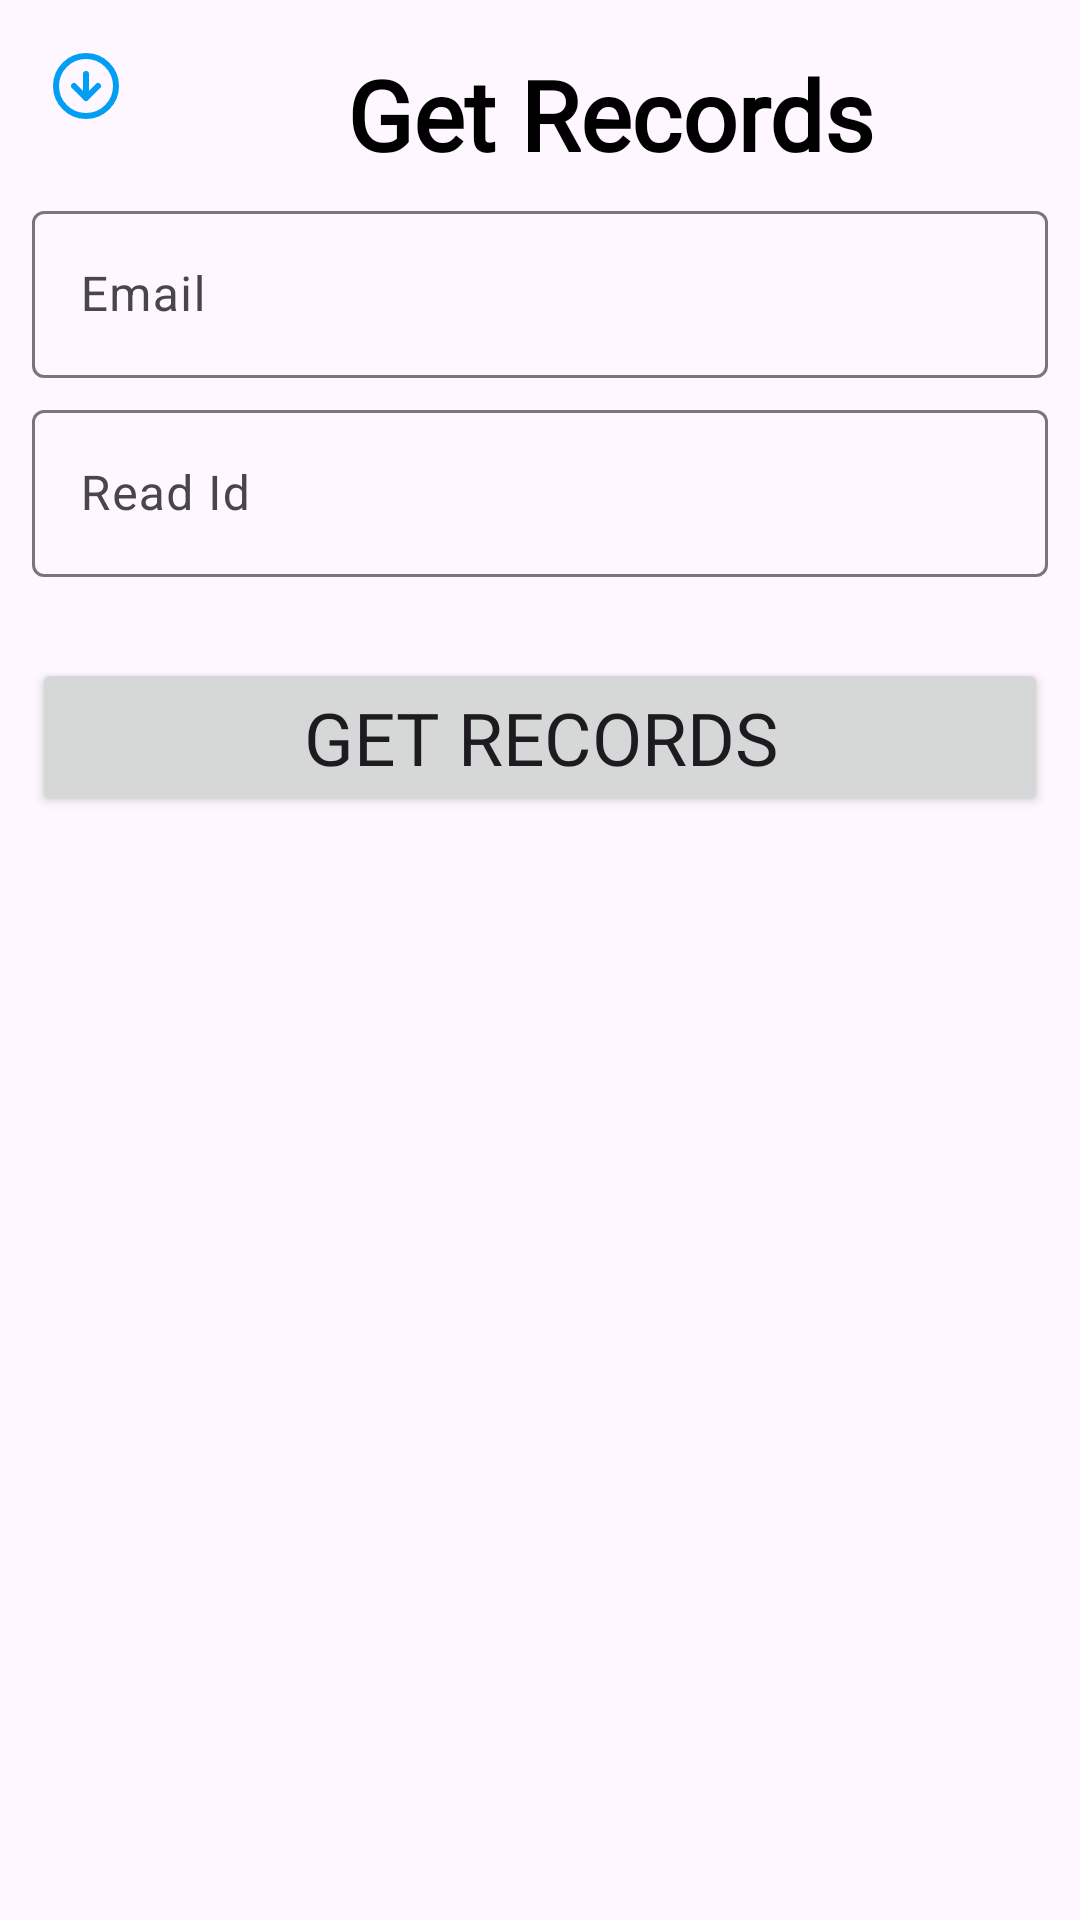

Icon bounding boxes for this 1080w x 1920h phone screenshot, format box=[x1, y1, x2, y2]:
godown: box=[53, 53, 119, 119]
